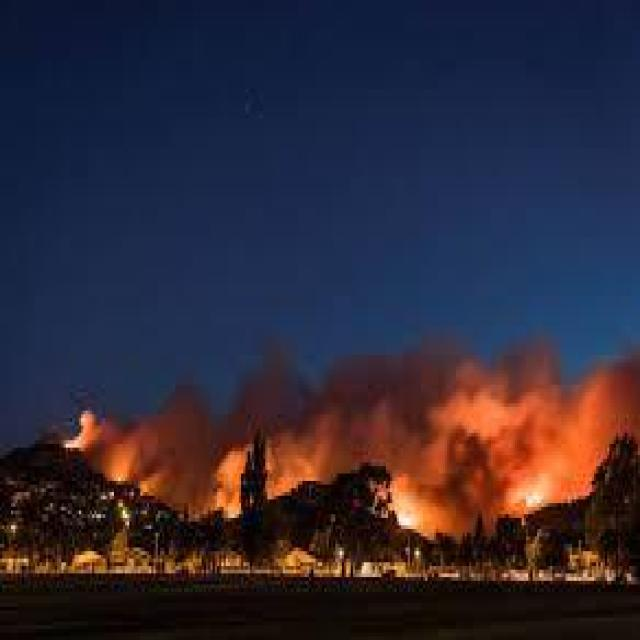fire: (447, 387, 598, 496), (77, 407, 135, 480), (262, 440, 316, 492), (400, 476, 435, 527), (216, 454, 240, 514)
smoke: (329, 360, 431, 407), (179, 383, 214, 448)
